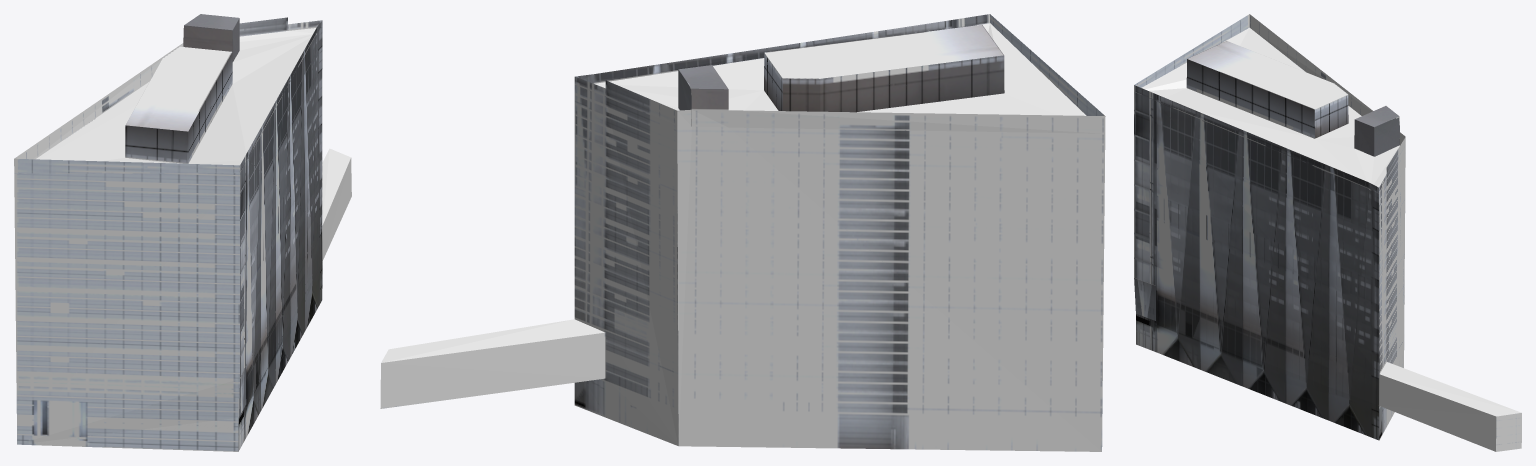
Rendered from Kafd_Base_Location207towerc.glb.
The picture shows the model from 3 angles, left to right: view 1: azimuth 30°, elevation 25°; view 2: azimuth 150°, elevation 25°; view 3: azimuth 270°, elevation 25°; orthographic projection. The views are drawn at different scales.
Visible parts, largest first — view 1: 2.07-C.001; view 2: 2.07-C.001; view 3: 2.07-C.001.
Part boxes in pixels (left/top/right/bottom): 2.07-C.001: left=14, top=14, right=351, bottom=451; 2.07-C.001: left=380, top=14, right=1105, bottom=451; 2.07-C.001: left=1134, top=14, right=1521, bottom=451.
Bounding box in the file's own units: 81.06 × 49.87 × 63.51.
Materials: 1 (1 with a texture image).
